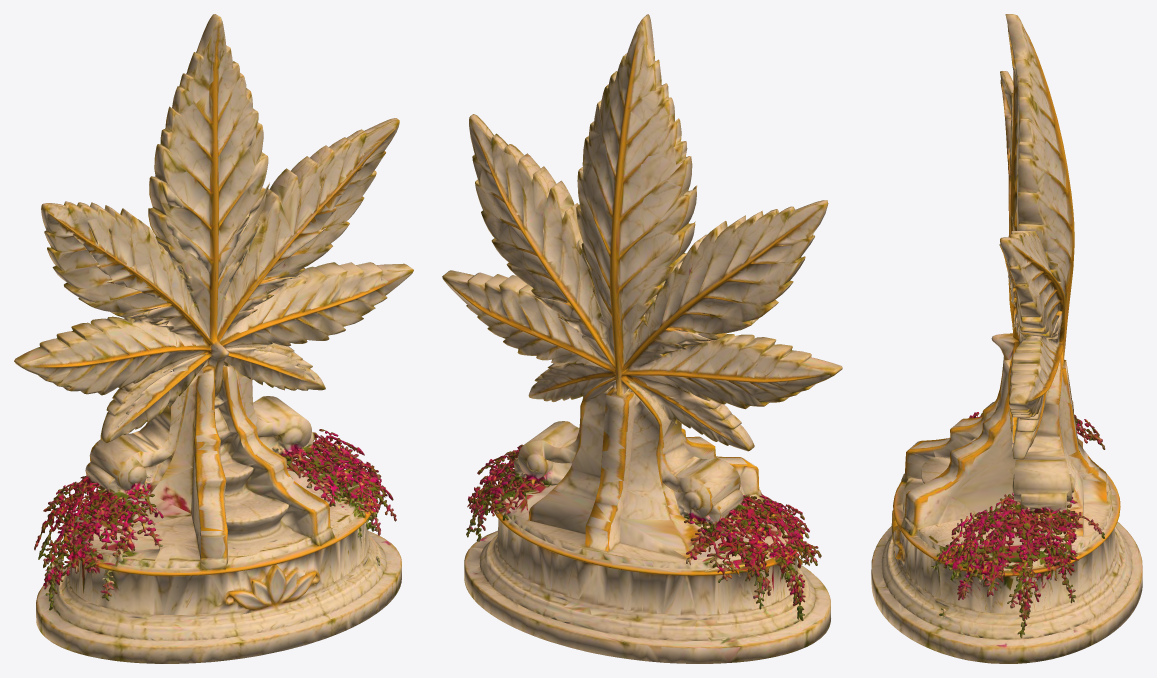
The model's file is esc-hoja.glb.
3 renders of one model, left to right at view 1: azimuth 30°, elevation 25°; view 2: azimuth 150°, elevation 25°; view 3: azimuth 270°, elevation 25°, orthographic. The views are drawn at different scales.
Parts seen in each view (by area): view 1: Mesh_0; view 2: Mesh_0; view 3: Mesh_0.
Boxes of the visible parts, bbox=[...] form: Mesh_0: bbox=[14, 14, 413, 663]; Mesh_0: bbox=[442, 14, 842, 663]; Mesh_0: bbox=[871, 14, 1142, 663].
Size of the model in its own units: 1.34 by 1.9 by 0.8217.
1 material, 1 textured.
